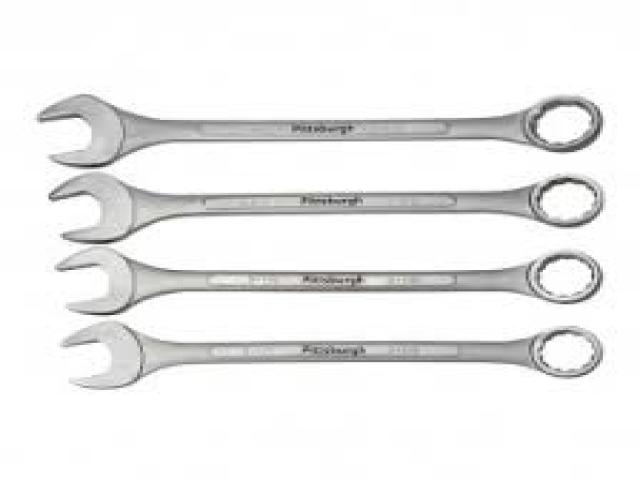Wrench: (39, 95, 602, 167), (50, 172, 604, 242), (58, 247, 602, 314), (62, 322, 602, 389)
